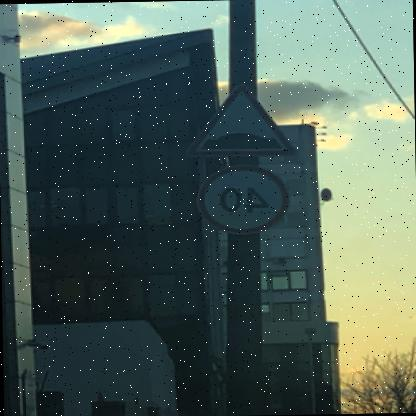speedlimit: (200, 162, 292, 233)
